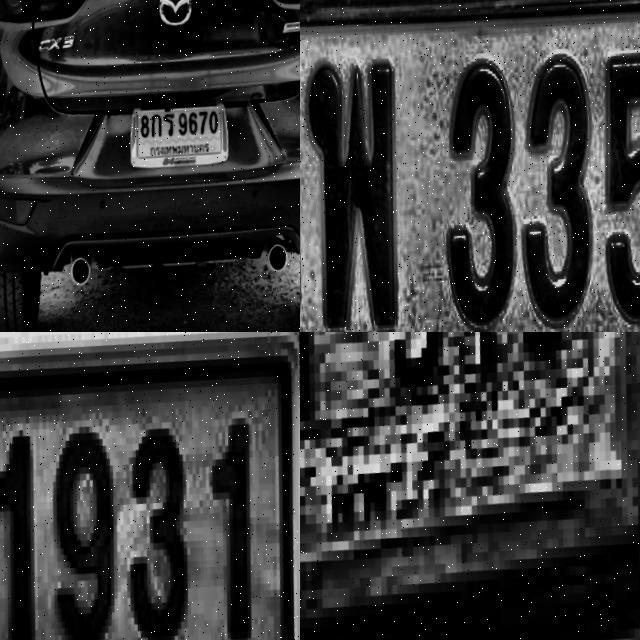license-plate: (300, 0, 640, 332), (300, 332, 640, 640), (0, 332, 300, 640), (121, 83, 256, 183)
